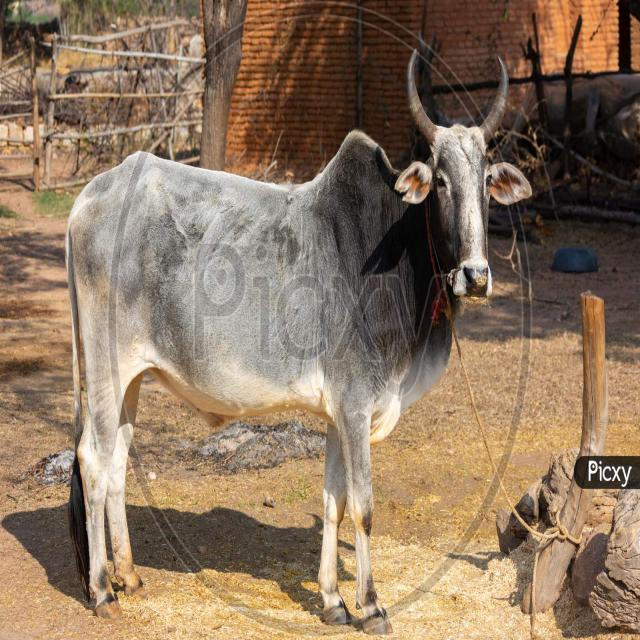Ox: (67, 54, 522, 619)
